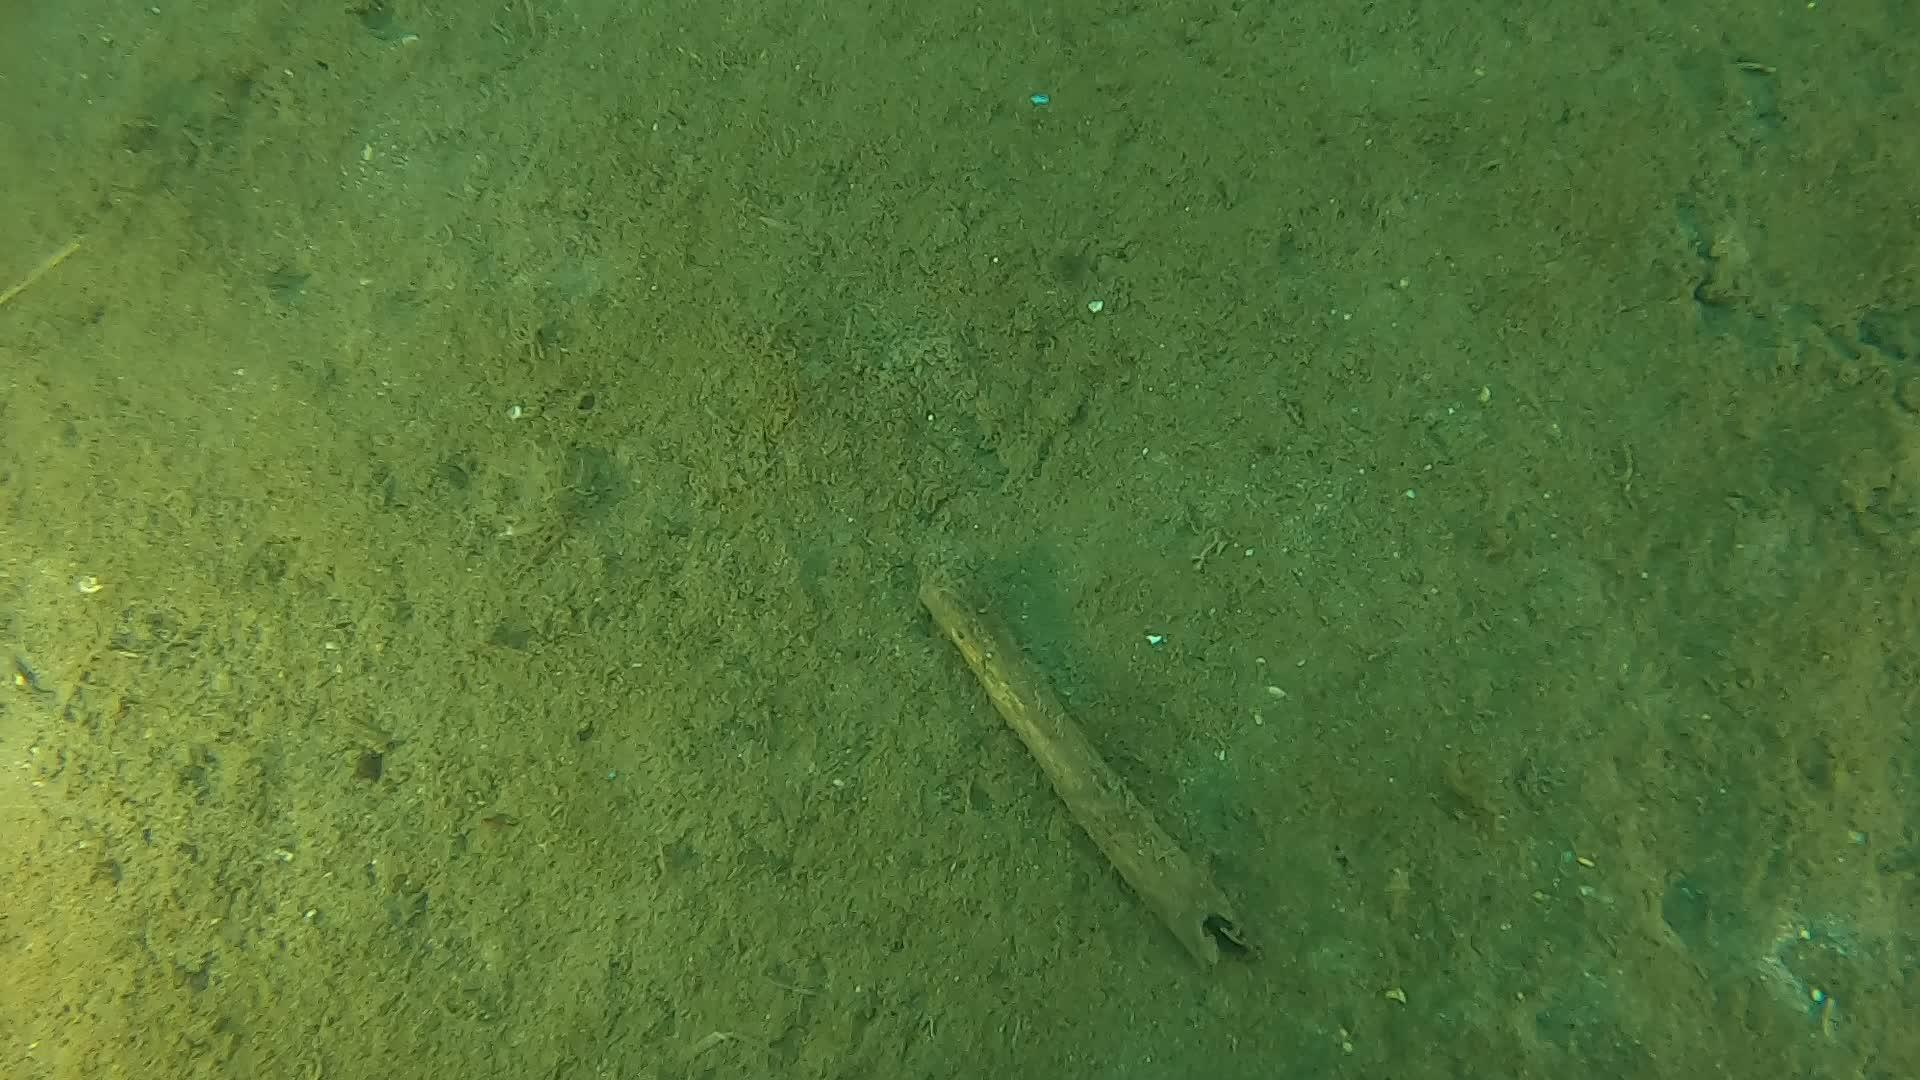wood: (915, 551, 1265, 973)
